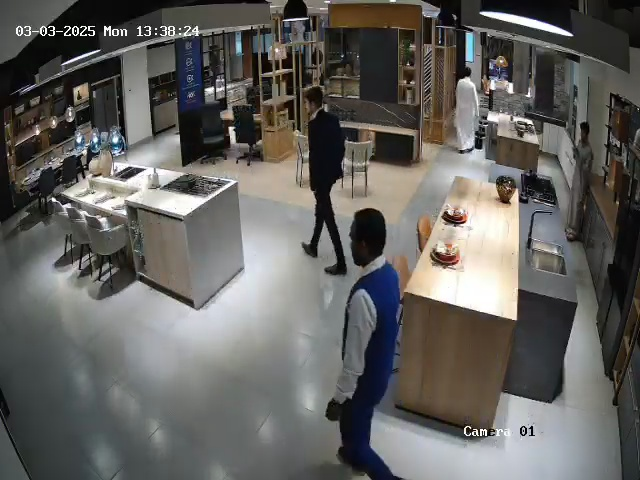employee: (324, 208, 406, 480), (300, 86, 347, 276)
male: (454, 67, 480, 154)
